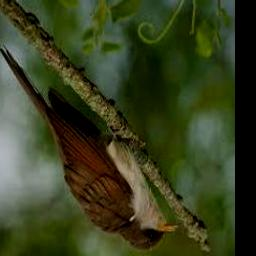Cuckoo: (0, 45, 177, 251)
